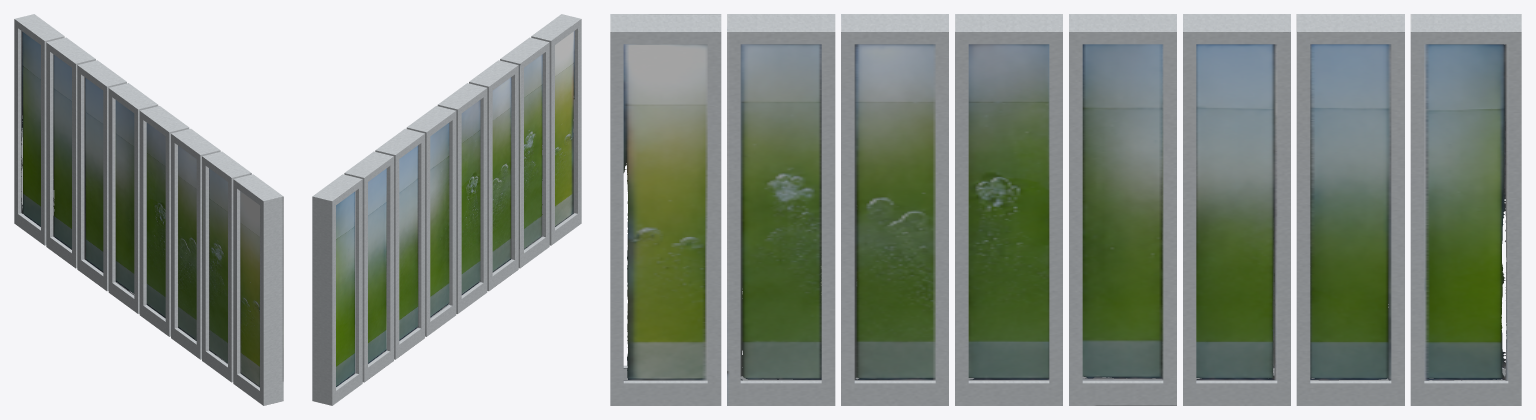
Rendered from Algae façade .fbx.
3 views of the same model, side by side, from view 1: azimuth 30°, elevation 25°; view 2: azimuth 150°, elevation 25°; view 3: azimuth 270°, elevation 25° (orthographic). The views are drawn at different scales.
Visible parts, largest first — view 1: Algae façade _Baked; view 2: Algae façade _Baked; view 3: Algae façade _Baked.
Boxes of the visible parts, x1,y1,x2,y2 form: Algae façade _Baked: [14, 14, 283, 405]; Algae façade _Baked: [312, 14, 581, 405]; Algae façade _Baked: [610, 14, 1521, 405].
Size of the model in its own units: 21.15 by 206 by 455.
Materials: 1 (1 with a texture image).
